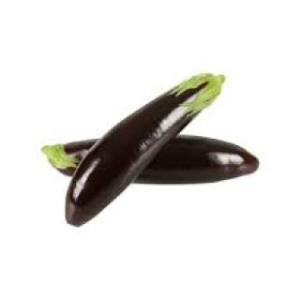eggplant: (62, 75, 215, 225), (40, 132, 258, 184)
